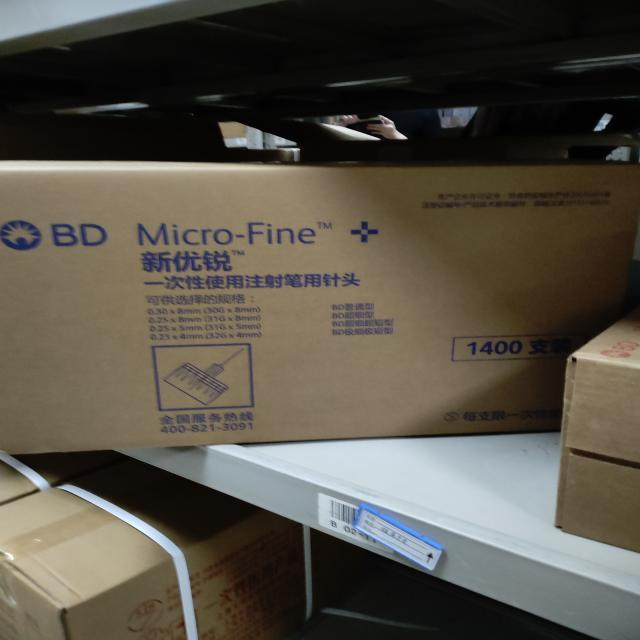box: (0, 153, 640, 463), (0, 464, 316, 640), (557, 310, 640, 548)
